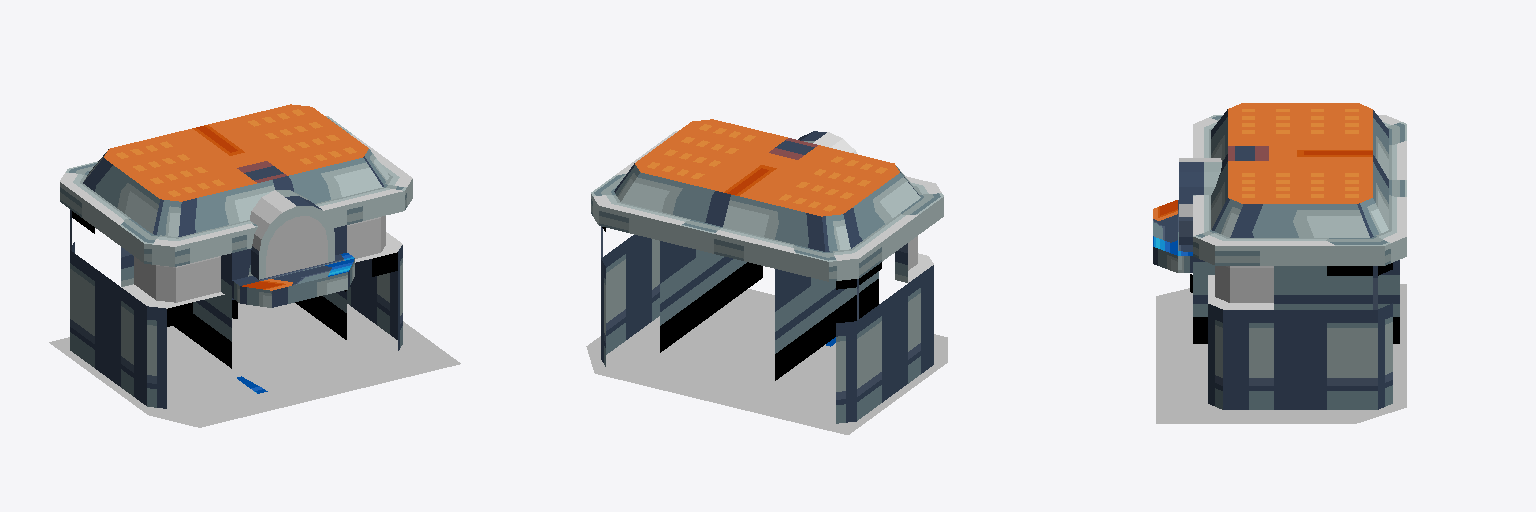
The picture shows the model from 3 angles: view 1: azimuth 30°, elevation 25°; view 2: azimuth 150°, elevation 25°; view 3: azimuth 270°, elevation 25°; orthographic projection.
Parts seen in each view (by area): view 1: Pokémon_Center; view 2: Pokémon_Center; view 3: Pokémon_Center.
Part boxes in pixels (x1,y1,x2,y2): Pokémon_Center: (49,104,460,427); Pokémon_Center: (586,119,947,434); Pokémon_Center: (1153,103,1406,423).
Size of the model in its own units: 1.3 by 0.8443 by 0.9956.
4 materials, 1 textured.